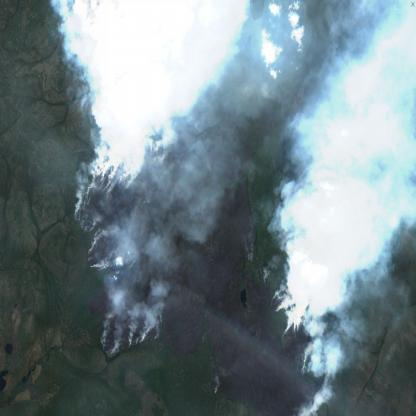fire: (72, 128, 165, 358), (261, 265, 334, 416), (243, 246, 256, 265)
